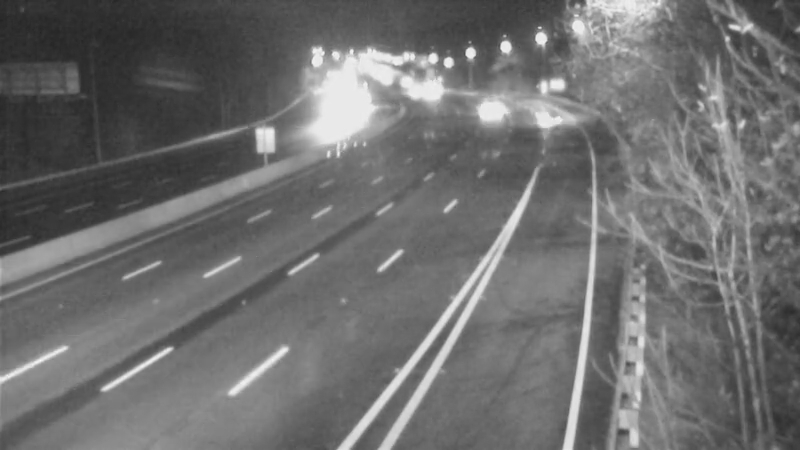vehicle: (387, 68, 437, 118), (407, 71, 457, 121), (462, 83, 512, 133), (523, 90, 573, 140)
